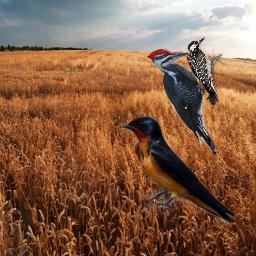Swallow: (118, 116, 237, 225)
Woodpecker: (146, 48, 216, 155), (183, 35, 228, 105)
